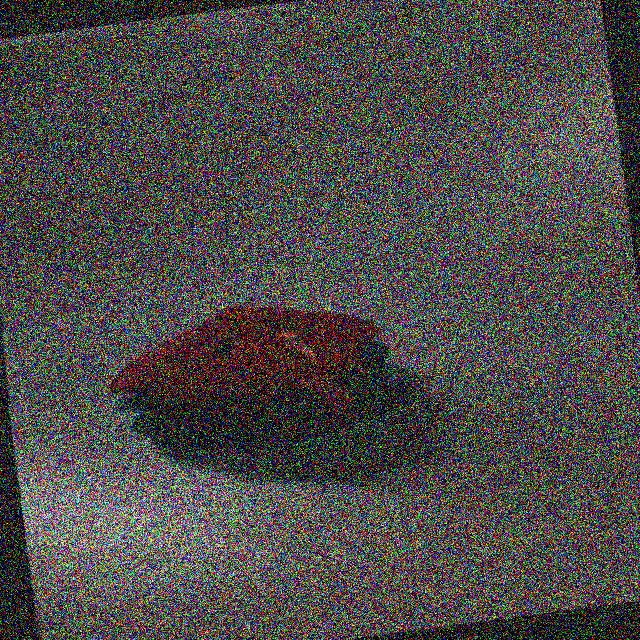House: (95, 281, 426, 467)
